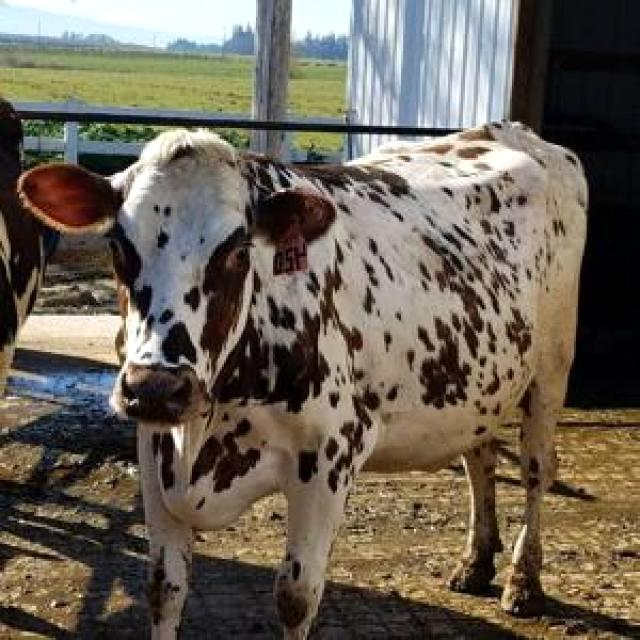COW: (20, 125, 588, 639)
